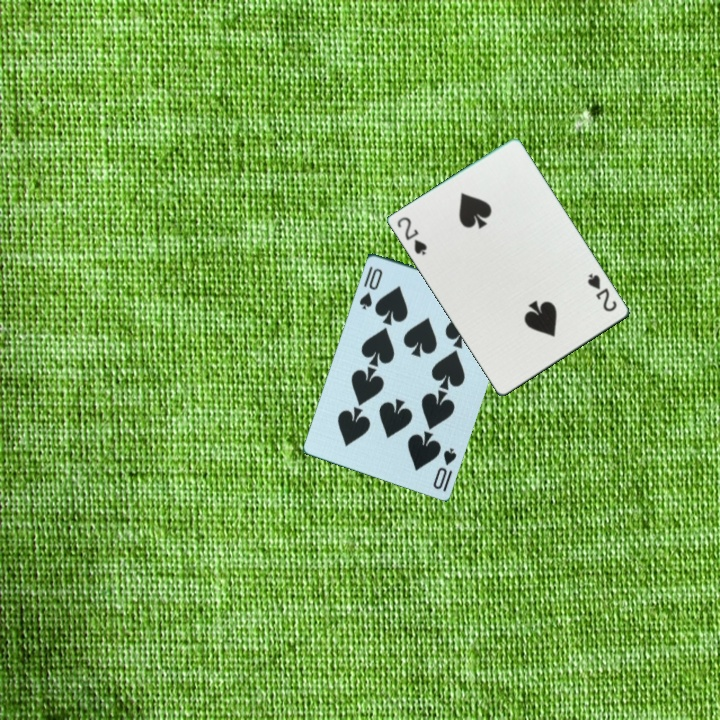10s: (429, 443, 459, 494), (355, 262, 385, 311)
2s: (584, 270, 620, 315), (394, 213, 430, 258)
